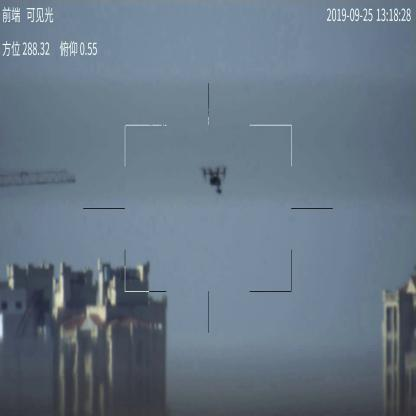uav: (201, 167, 227, 194)
